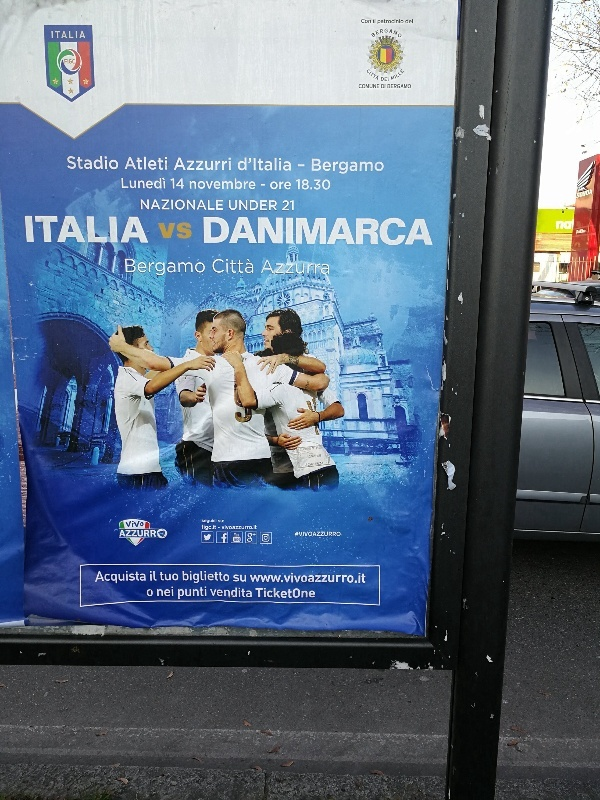text: (209, 215, 224, 248), (225, 215, 240, 248), (241, 215, 256, 248), (257, 215, 272, 248), (273, 215, 288, 248), (289, 215, 304, 248), (305, 215, 320, 248), (321, 215, 336, 248), (337, 215, 352, 248), (353, 215, 368, 248), (369, 215, 384, 248), (385, 215, 400, 248), (401, 215, 416, 248), (417, 215, 432, 248), (33, 215, 48, 244), (49, 215, 64, 244), (65, 215, 80, 244), (81, 215, 96, 244), (97, 215, 112, 244), (113, 215, 128, 244), (129, 215, 144, 244), (177, 221, 193, 241), (241, 157, 256, 177), (257, 157, 272, 177), (273, 157, 288, 177), (289, 157, 304, 177), (305, 157, 320, 177), (321, 157, 336, 177), (337, 157, 352, 177), (353, 157, 368, 177), (369, 157, 384, 177), (161, 221, 176, 241), (129, 258, 144, 278), (145, 258, 160, 278), (161, 258, 176, 278), (177, 258, 192, 278), (273, 259, 288, 276), (289, 259, 304, 276), (305, 259, 320, 276), (81, 155, 96, 171), (97, 155, 112, 171), (193, 258, 205, 278), (113, 570, 128, 586), (129, 570, 144, 586), (129, 156, 144, 171), (145, 156, 160, 171), (193, 157, 208, 172), (209, 157, 224, 172), (193, 177, 208, 192), (209, 177, 224, 192), (225, 177, 240, 192), (241, 177, 256, 192), (257, 177, 272, 192), (273, 177, 288, 192), (225, 259, 240, 274), (193, 570, 208, 585), (209, 570, 224, 585), (178, 157, 192, 172), (129, 177, 144, 191), (145, 177, 160, 191), (145, 199, 160, 213), (161, 199, 176, 213), (177, 199, 192, 213), (193, 199, 208, 213), (209, 199, 224, 213), (241, 199, 256, 213), (257, 199, 272, 213), (178, 586, 192, 601), (193, 586, 207, 601), (67, 155, 80, 171), (99, 570, 112, 586), (25, 215, 32, 244), (241, 259, 254, 274), (257, 587, 272, 600), (273, 587, 288, 600), (289, 587, 304, 600), (257, 572, 272, 585), (273, 572, 288, 585), (289, 572, 304, 585), (305, 572, 320, 585), (321, 572, 336, 585), (337, 572, 352, 585), (305, 179, 320, 191), (212, 259, 224, 274), (353, 572, 366, 585), (228, 199, 240, 213), (203, 215, 208, 248), (161, 571, 176, 582), (209, 587, 224, 598), (225, 587, 240, 598), (161, 586, 174, 598), (561, 219, 575, 230), (321, 259, 330, 276), (182, 570, 192, 585), (577, 189, 592, 199), (305, 587, 316, 600), (369, 69, 379, 82), (391, 69, 400, 83), (241, 587, 252, 598), (65, 31, 80, 39), (321, 179, 331, 191), (305, 380, 320, 388), (129, 530, 144, 538), (371, 29, 384, 38), (145, 215, 149, 244), (150, 571, 160, 582), (385, 19, 400, 26), (161, 156, 168, 171), (305, 531, 320, 538), (321, 531, 336, 538), (129, 521, 144, 528), (51, 31, 64, 39), (147, 589, 160, 597), (121, 177, 128, 191), (113, 155, 119, 171), (177, 178, 185, 190), (296, 179, 304, 191), (328, 452, 336, 464), (241, 525, 257, 531), (145, 530, 157, 538), (249, 572, 256, 585), (385, 28, 400, 34), (225, 157, 231, 172), (225, 525, 240, 531), (248, 532, 256, 543), (267, 259, 272, 276), (282, 199, 288, 213), (262, 534, 272, 542), (225, 570, 230, 585), (401, 69, 406, 83), (161, 177, 166, 191), (273, 199, 278, 213), (289, 199, 294, 213), (306, 462, 320, 467), (295, 531, 304, 538), (388, 84, 400, 89), (171, 178, 176, 190), (125, 258, 128, 278), (140, 199, 144, 213), (209, 524, 217, 531), (121, 530, 128, 538), (65, 59, 76, 64), (373, 19, 384, 24), (405, 19, 416, 24), (369, 84, 380, 89), (401, 84, 412, 89), (394, 30, 400, 39), (234, 574, 240, 583), (241, 574, 247, 583), (308, 455, 320, 459), (209, 518, 217, 524), (359, 84, 368, 89), (189, 177, 192, 192), (289, 177, 292, 192), (556, 219, 560, 230), (378, 19, 384, 26), (202, 524, 208, 531), (81, 31, 86, 39), (238, 157, 240, 177), (158, 221, 160, 241), (202, 518, 208, 524), (157, 586, 160, 598), (361, 19, 368, 24), (433, 215, 434, 248), (221, 533, 224, 544), (312, 446, 320, 450), (305, 447, 311, 452), (234, 532, 240, 537), (234, 537, 240, 542), (337, 531, 341, 538), (312, 455, 320, 458), (225, 533, 227, 544), (177, 571, 179, 582), (401, 19, 404, 26), (125, 521, 128, 528), (385, 77, 389, 82), (300, 447, 304, 452), (218, 520, 224, 523), (221, 525, 224, 531), (145, 570, 146, 586), (369, 19, 372, 24), (381, 77, 384, 82), (381, 84, 384, 89), (321, 462, 324, 467), (317, 454, 320, 458), (218, 527, 224, 529), (161, 532, 165, 535), (159, 571, 160, 582), (401, 30, 402, 39), (385, 84, 386, 89)
